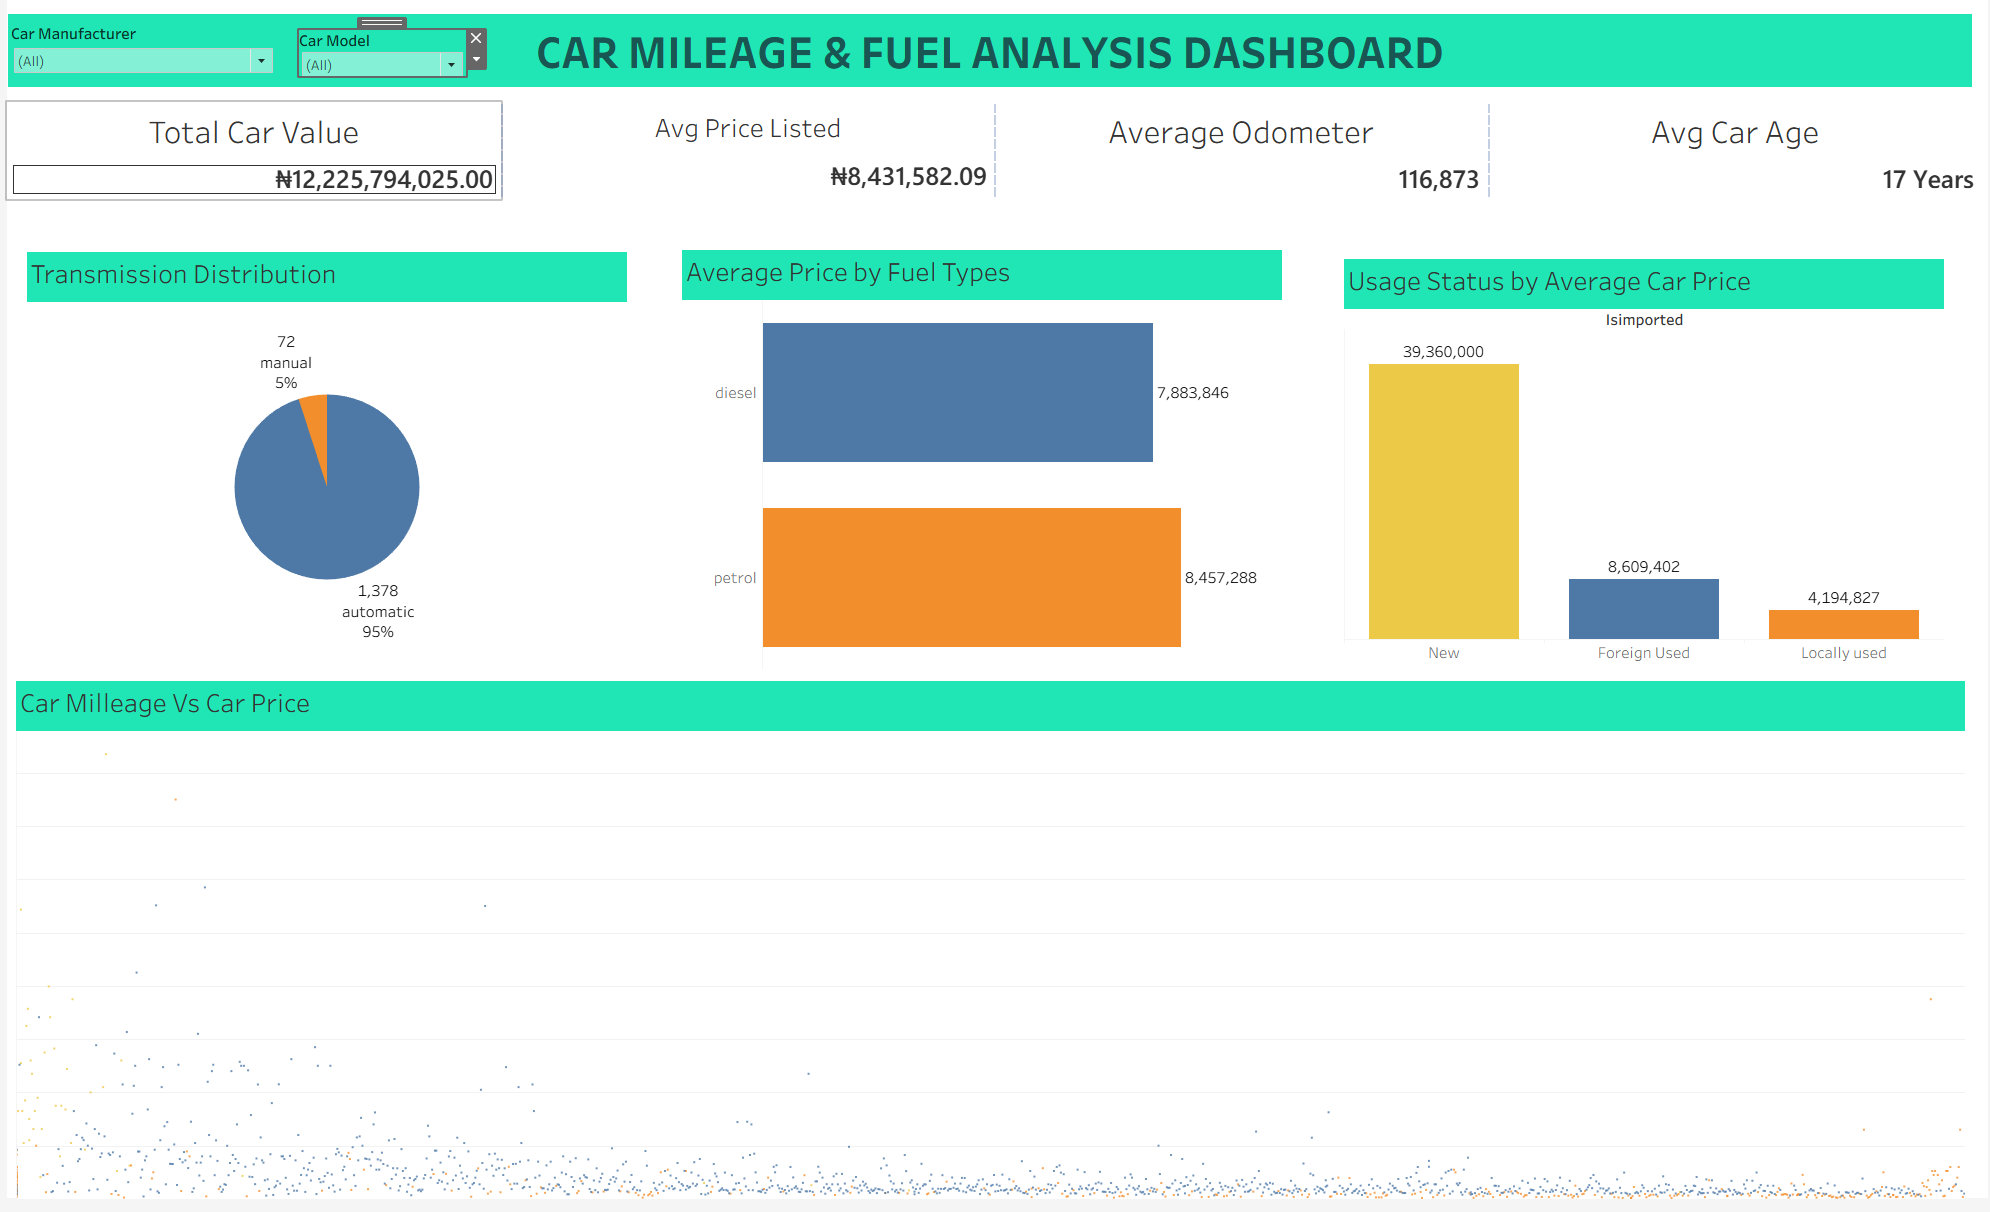

Layout of this report page (visuals, bound fields, positions):
{"tool":"tableau","page":{"name":"CAR MILEAGE & FUEL ANALYSIS DASHBOARD","canvas":[1000,1000],"units":"permille","ordinal":2},"visuals":[{"type":"filter","title":"Transmission Distribution","param":"[federated.0i5pehc15kspyt1a6biqr0ltye5n].[none:Calculation_1374727541518344:nk]","box":[2,26.5,133.7,45.6]},{"type":"filter","title":"Transmission Distribution","param":"[federated.0i5pehc15kspyt1a6biqr0ltye5n].[none:title:nk]","box":[147.3,32.3,84.5,38.1]},{"type":"worksheet","title":"Total Car Value","mark":"Automatic","box":[0,92,249.2,80.4]},{"type":"worksheet","title":"Avg Price Listed","mark":"Automatic","box":[249.2,92,249.2,80.4]},{"type":"worksheet","title":"Average Odometer","mark":"Automatic","box":[498.5,92,249.2,80.4]},{"type":"worksheet","title":"Avg Car Age","mark":"Automatic","box":[747.7,92,249.2,80.4]},{"type":"worksheet","title":"Average Price by Fuel Types","mark":"Automatic","rows":["fuel"],"cols":["Calculation_1374727533146113"],"box":[340.7,214.6,302.9,348]},{"type":"worksheet","title":"Transmission Distribution","mark":"Pie","box":[10.1,216.2,302.9,348]},{"type":"worksheet","title":"Usage Status by Average Car Price ","mark":"Automatic","rows":["Calculation_1374727533146113"],"cols":["isimported"],"box":[674.9,222,302.9,348]},{"type":"worksheet","title":"Car Milleage Vs Car Price","mark":"Circle","rows":["price"],"cols":["odometer"],"box":[4.5,571.7,983.9,429.2]},{"type":"filter","title":"Car Milleage Vs Car Price","param":"[federated.0i5pehc15kspyt1a6biqr0ltye5n].[none:Calculation_1374727541518344:nk]","box":[903.6,574.1,67.7,35.6]}]}

Visuals, with their boxes on the dashboard's canvas, which has no fixed pixel size, in thousandths of its width and height (x1, y1, x2, y2). These are canvas units, not pixel positions in the 1990x1212 screenshot, which may show the page scaled, cropped or inside an application window:
"Transmission Distribution" filter: box=[2, 26, 136, 72]
"Transmission Distribution" filter: box=[147, 32, 232, 70]
"Total Car Value" worksheet: box=[0, 92, 249, 172]
"Avg Price Listed" worksheet: box=[249, 92, 498, 172]
"Average Odometer" worksheet: box=[498, 92, 748, 172]
"Avg Car Age" worksheet: box=[748, 92, 997, 172]
"Average Price by Fuel Types" worksheet: box=[341, 215, 644, 563]
"Transmission Distribution" worksheet (Pie marks): box=[10, 216, 313, 564]
"Usage Status by Average Car Price " worksheet: box=[675, 222, 978, 570]
"Car Milleage Vs Car Price" worksheet (Circle marks): box=[4, 572, 988, 1001]
"Car Milleage Vs Car Price" filter: box=[904, 574, 971, 610]
